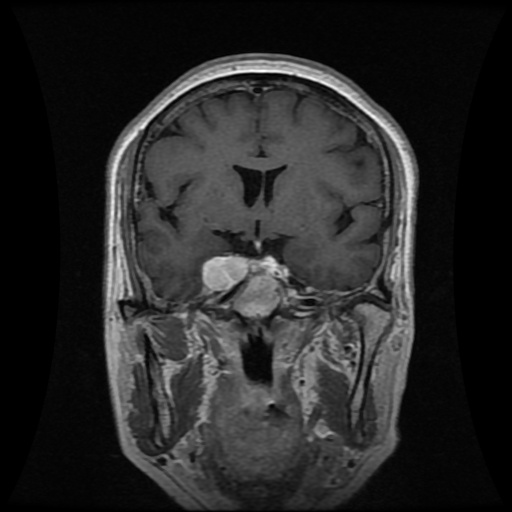meningioma: (201, 255, 249, 290)
